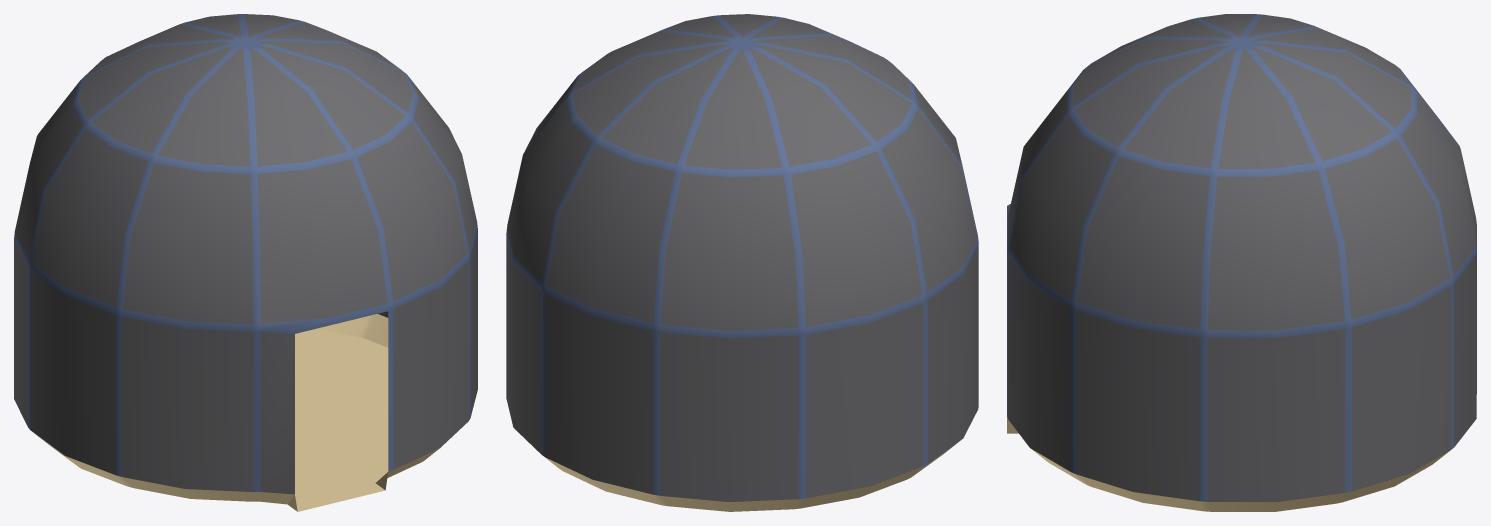
The model's file is Klax_Room_01.fbx.
3 renders of one model, left to right at view 1: azimuth 30°, elevation 25°; view 2: azimuth 150°, elevation 25°; view 3: azimuth 270°, elevation 25°, orthographic. The views are drawn at different scales.
Visible parts, largest first — view 1: Klax_Room_01; view 2: Klax_Room_01; view 3: Klax_Room_01.
Boxes of the visible parts, bbox=[...] form: Klax_Room_01: bbox=[14, 14, 477, 511]; Klax_Room_01: bbox=[506, 14, 978, 511]; Klax_Room_01: bbox=[1007, 14, 1476, 511].
Size of the model in its own units: 19.6 by 17.4 by 19.6.
